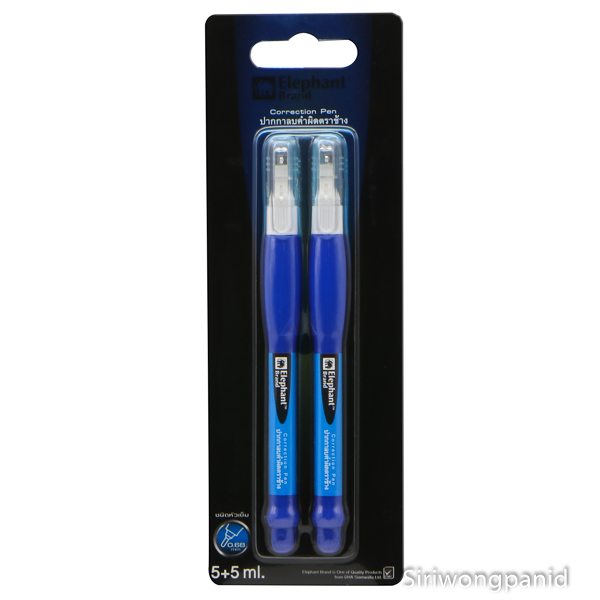Correction_fluid: (305, 128, 352, 559), (261, 129, 304, 560)
